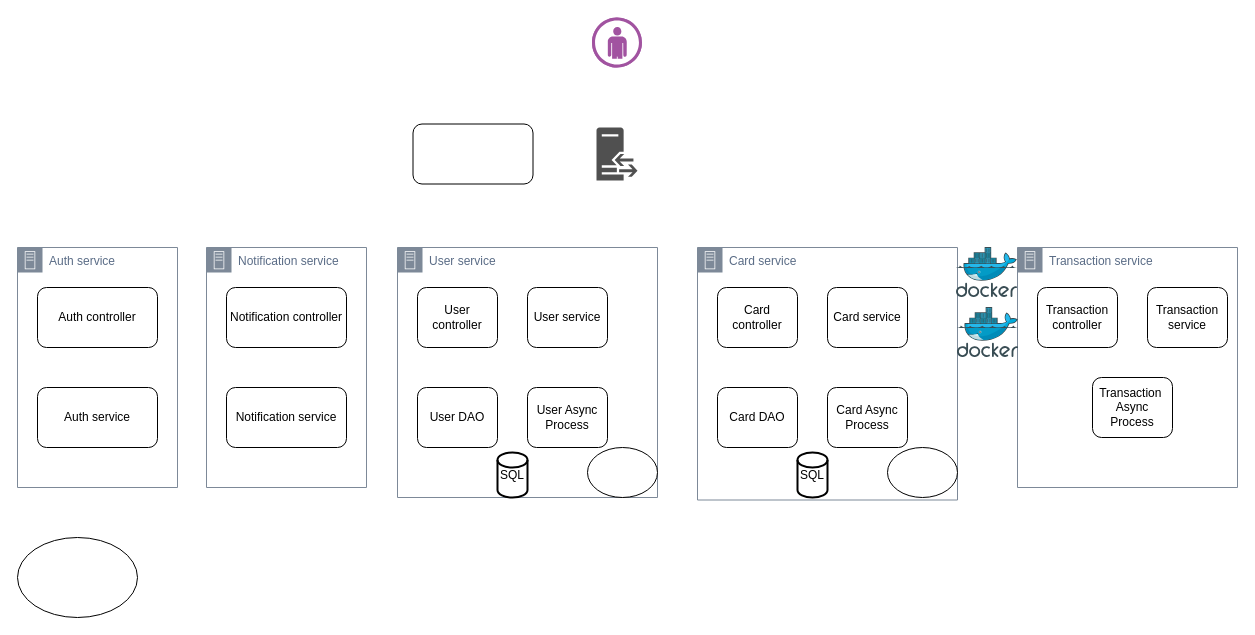
Image size: 1255x635. Some labels were removed from this diagram. Here are the shapes that lost their labels. From the top down, the centre of each, then its label:
At point 472,153: "Static content".
At point 622,472: "User model".
At point 922,472: "Card model".
At point 77,577: "ESB".
